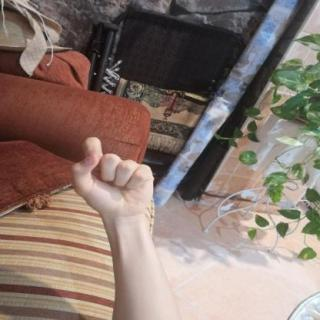FAA: (60, 130, 164, 225)
